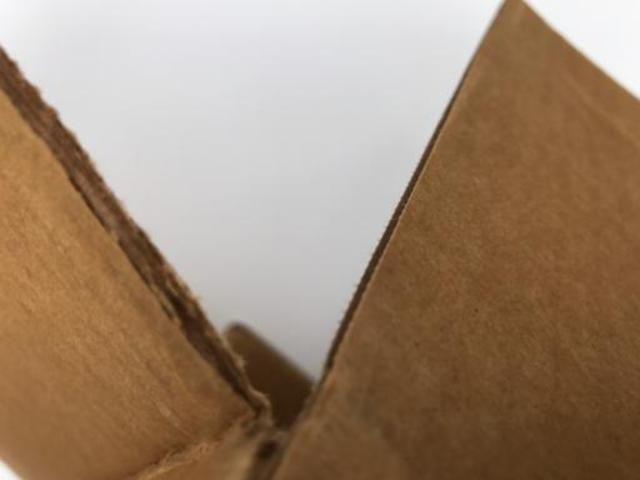cardboard paper: (0, 0, 638, 476), (274, 0, 638, 476), (0, 48, 282, 476)
